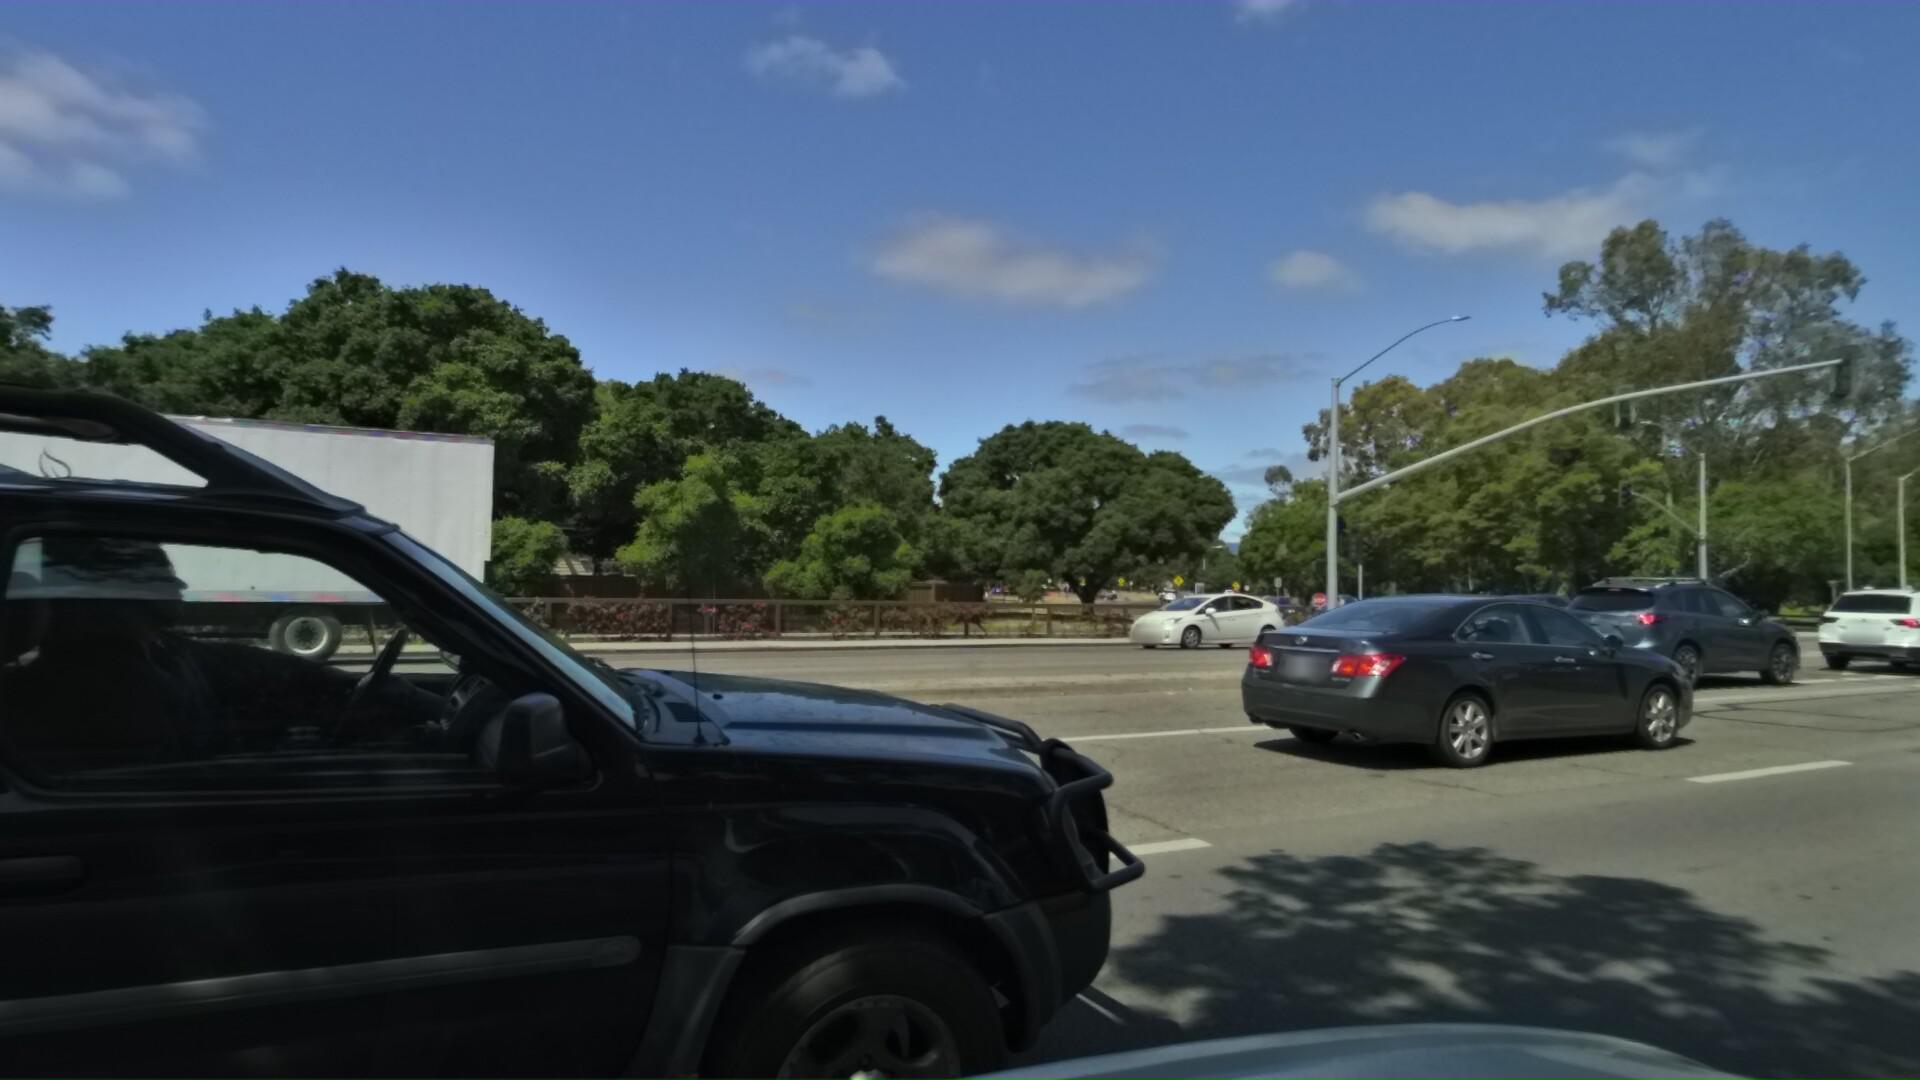car: (0, 0, 1300, 1080), (1244, 559, 1729, 786), (0, 349, 67, 1080), (1532, 567, 1808, 698), (1791, 566, 1920, 661), (1098, 582, 1276, 646), (1298, 582, 1379, 617)
truck: (0, 352, 502, 682)
